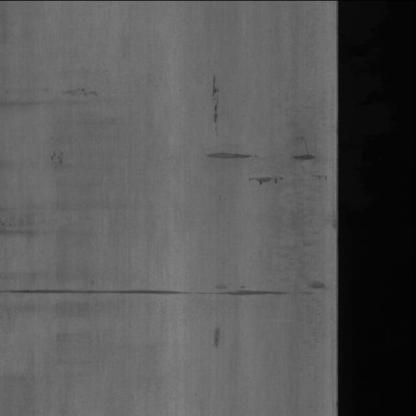crease: (4, 272, 316, 308), (196, 139, 256, 163), (205, 72, 225, 128), (244, 174, 286, 189), (287, 150, 317, 166), (211, 328, 221, 350)
